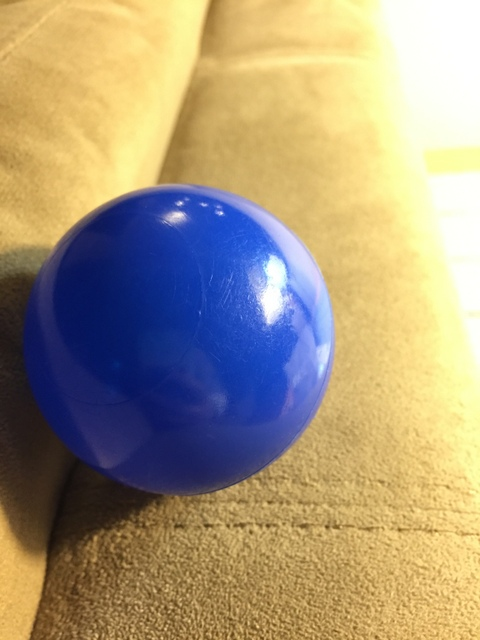Ball: (25, 187, 332, 496)
